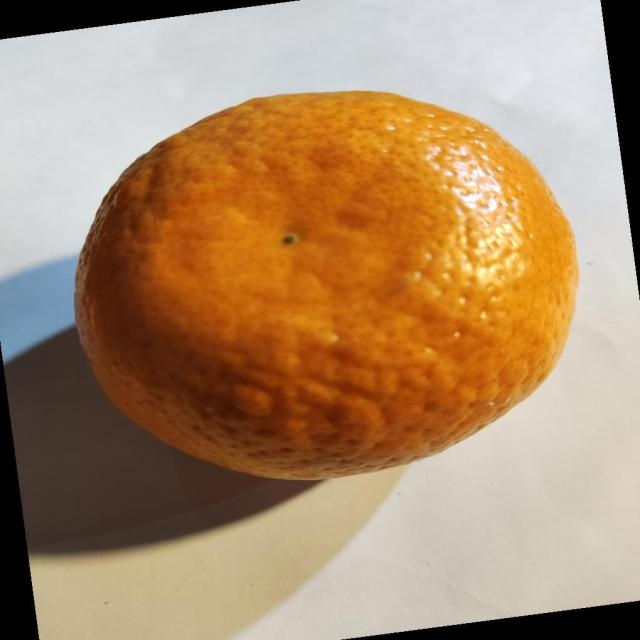agrume: (72, 88, 580, 482)
